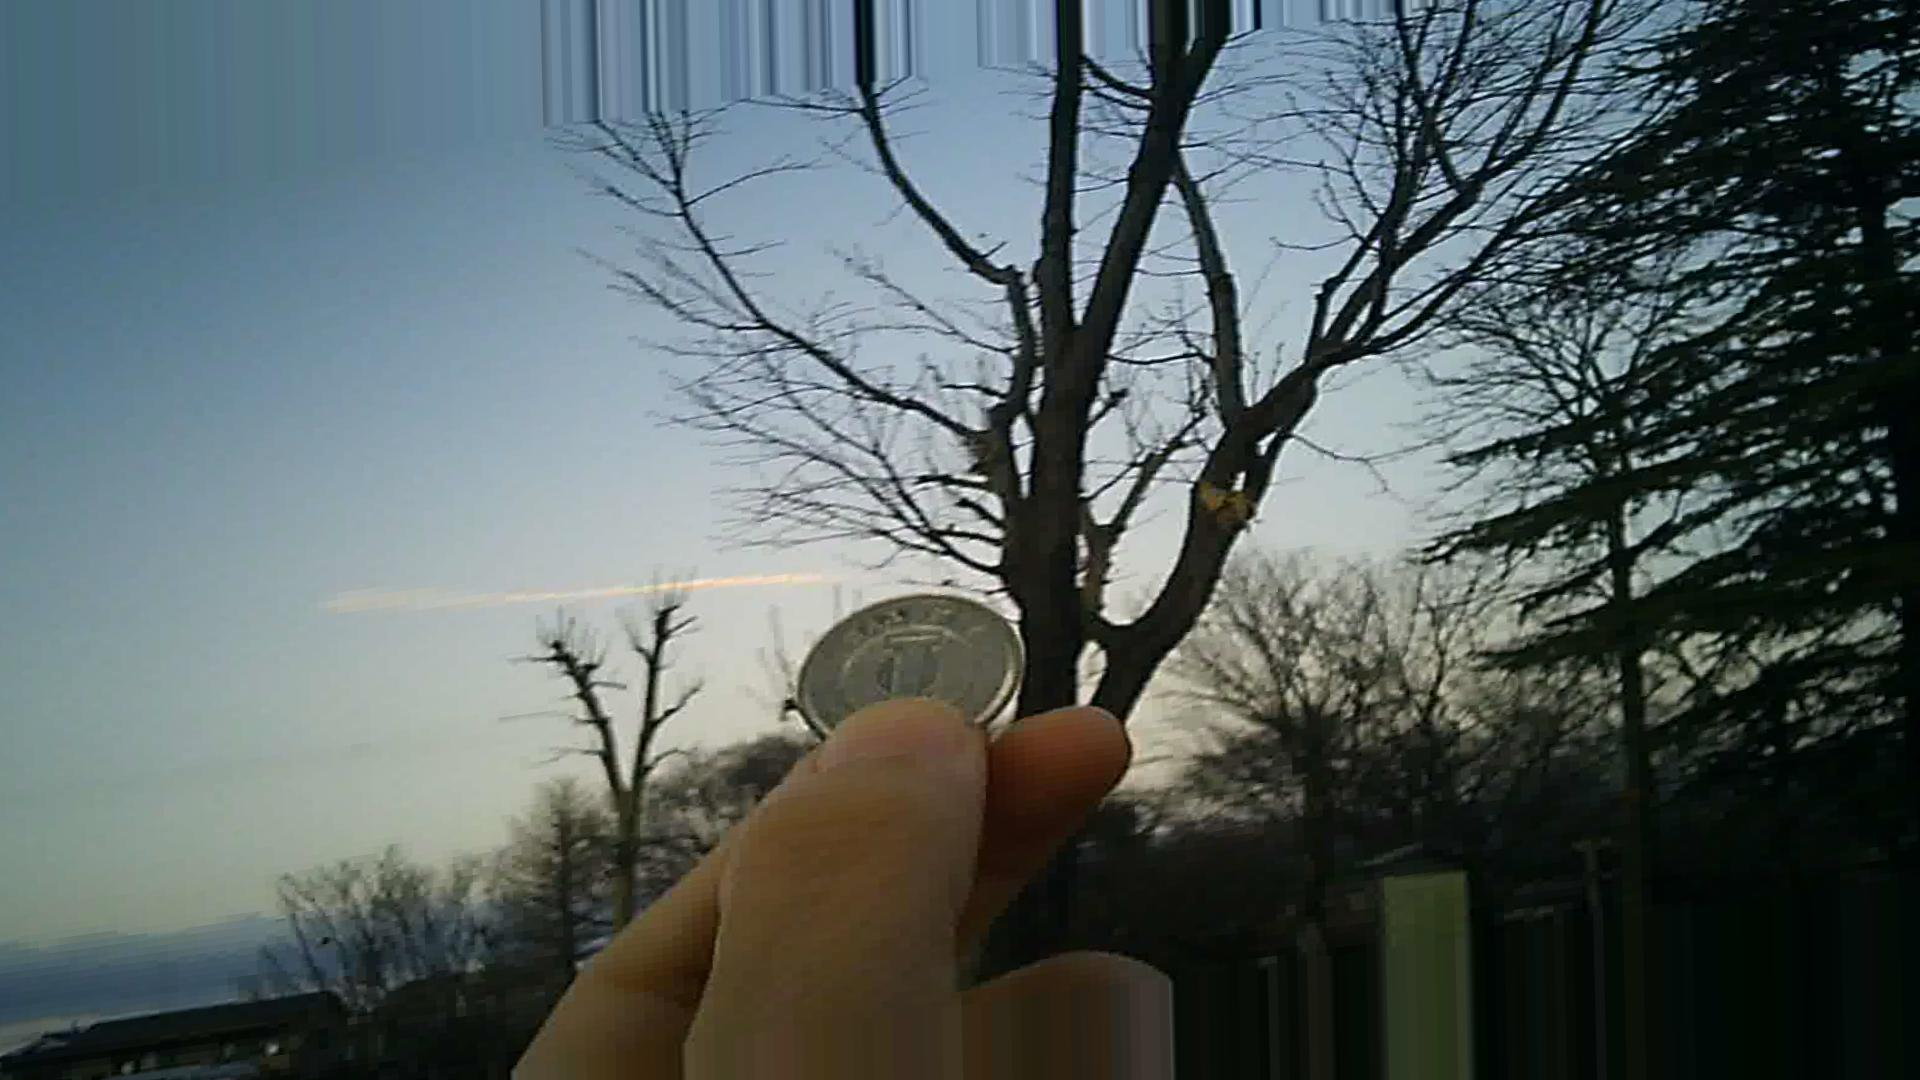1 Yen: (793, 583, 1026, 760)
